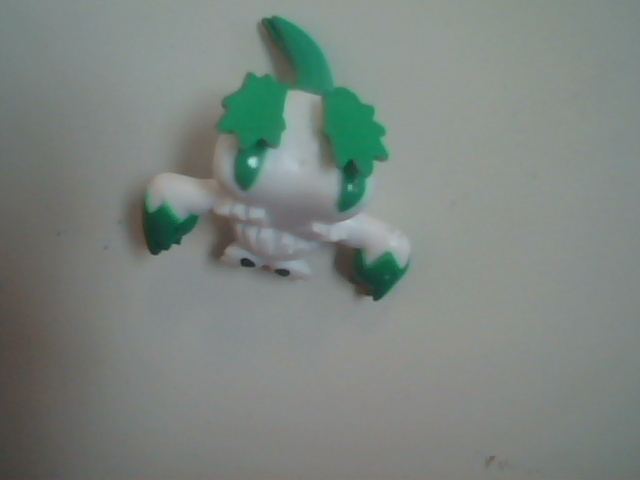abomasnow: (122, 17, 491, 355)
